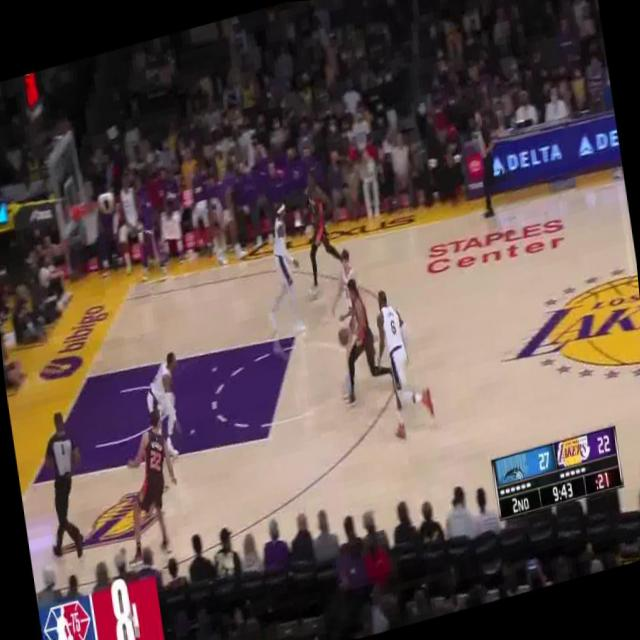ball-handler: (322, 264, 402, 416)
